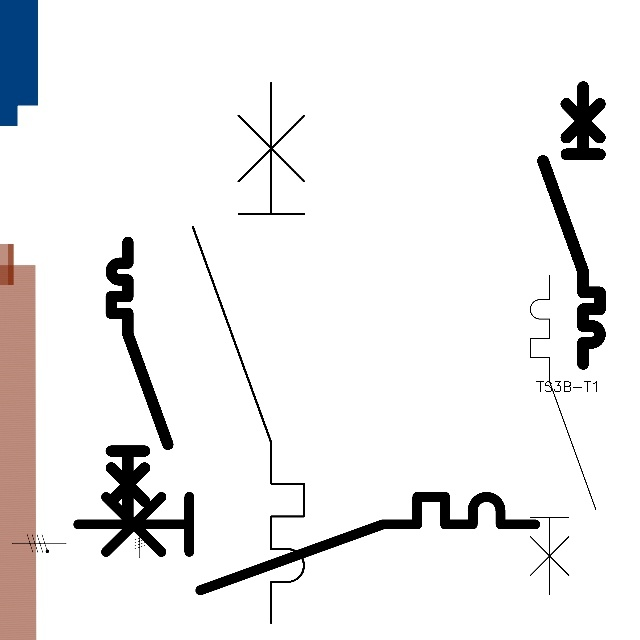interruptor_termomagnetico: (179, 69, 318, 637), (66, 485, 546, 602), (522, 267, 604, 603), (536, 80, 607, 371), (104, 235, 175, 525)
